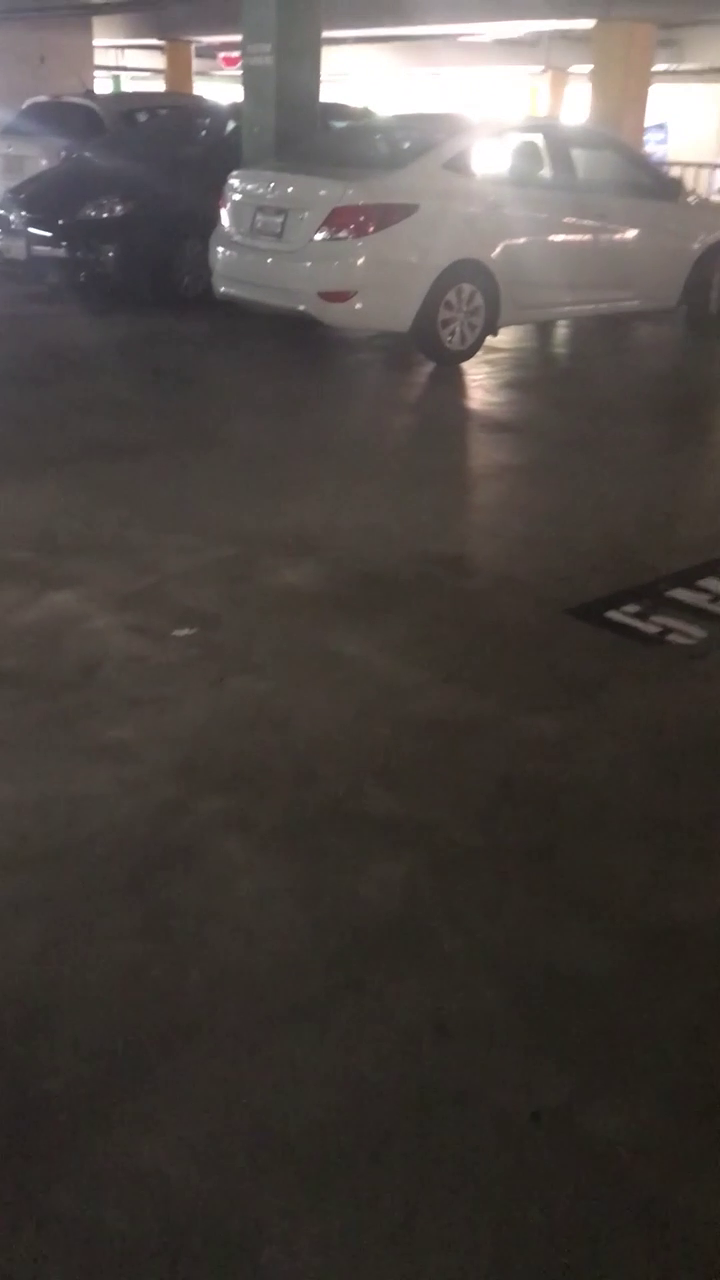car: (216, 93, 701, 359), (3, 92, 242, 304)
